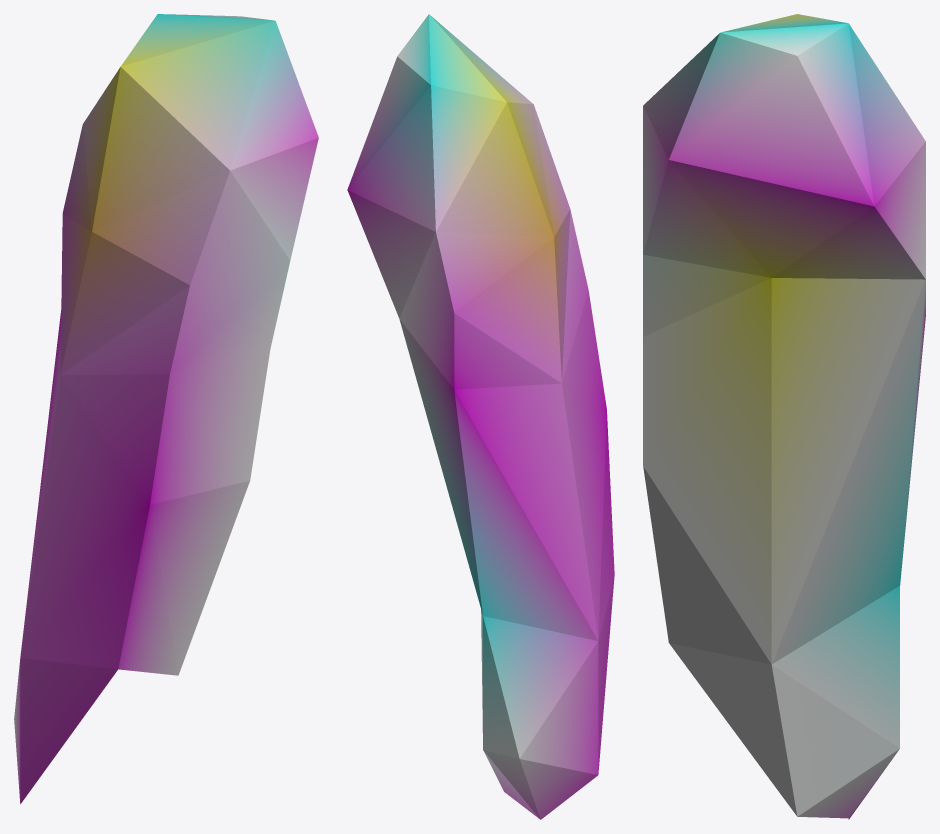
The picture shows the model from 3 angles, left to right: view 1: azimuth 30°, elevation 25°; view 2: azimuth 150°, elevation 25°; view 3: azimuth 270°, elevation 25°; orthographic projection. The views are drawn at different scales.
Visible parts, largest first — view 1: model_11A2; view 2: model_11A2; view 3: model_11A2.
Part boxes in pixels (x1=…): model_11A2: x1=14, y1=14, x2=318, y2=803; model_11A2: x1=347, y1=14, x2=614, y2=819; model_11A2: x1=643, y1=14, x2=925, y2=819.
Size of the model in its own units: 12 by 38 by 11.
